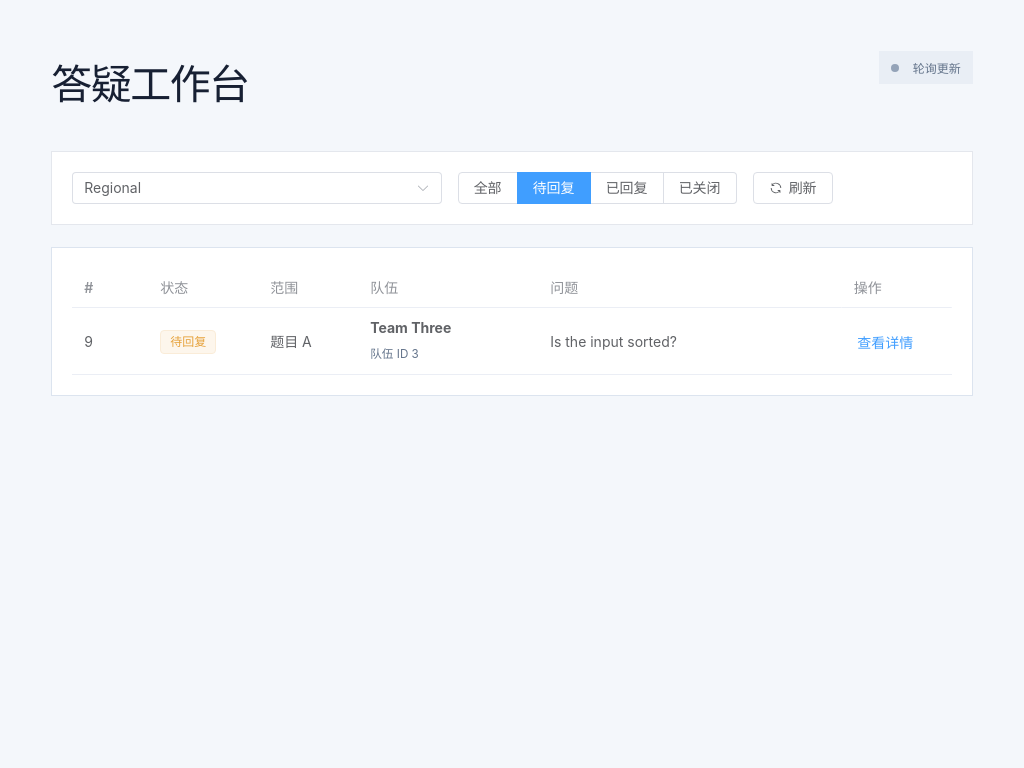
Scenario: JudgeClarificationView › shows sensitive team and actor identifiers only in the judge detail
Click the button "查看详情": (885, 343) [854,333,916,353]
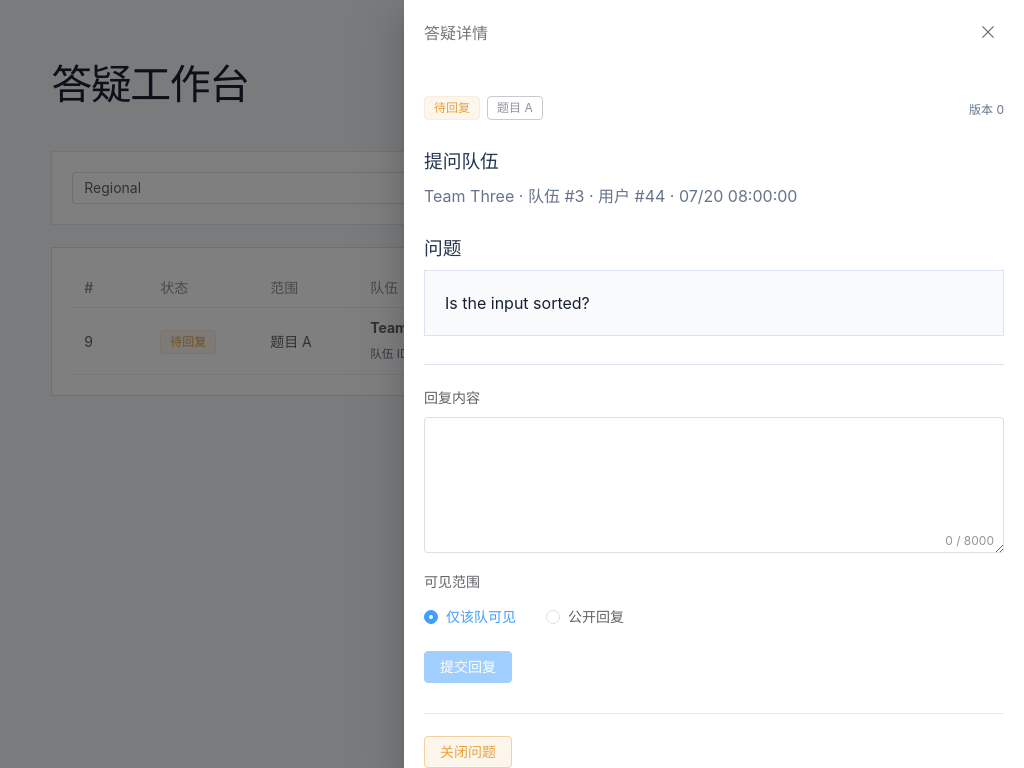
Result: the text "队伍 #3" is shown at [424,186,798,206]
Result: the text "用户 #44" is shown at [424,186,798,206]
